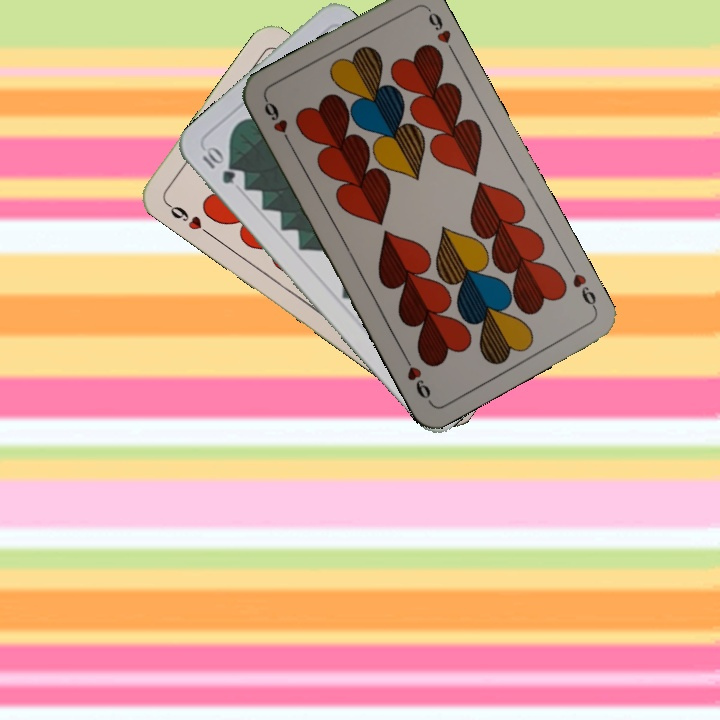G10: (197, 143, 238, 187)
H9: (162, 198, 213, 238), (260, 95, 295, 150), (564, 258, 599, 312)
